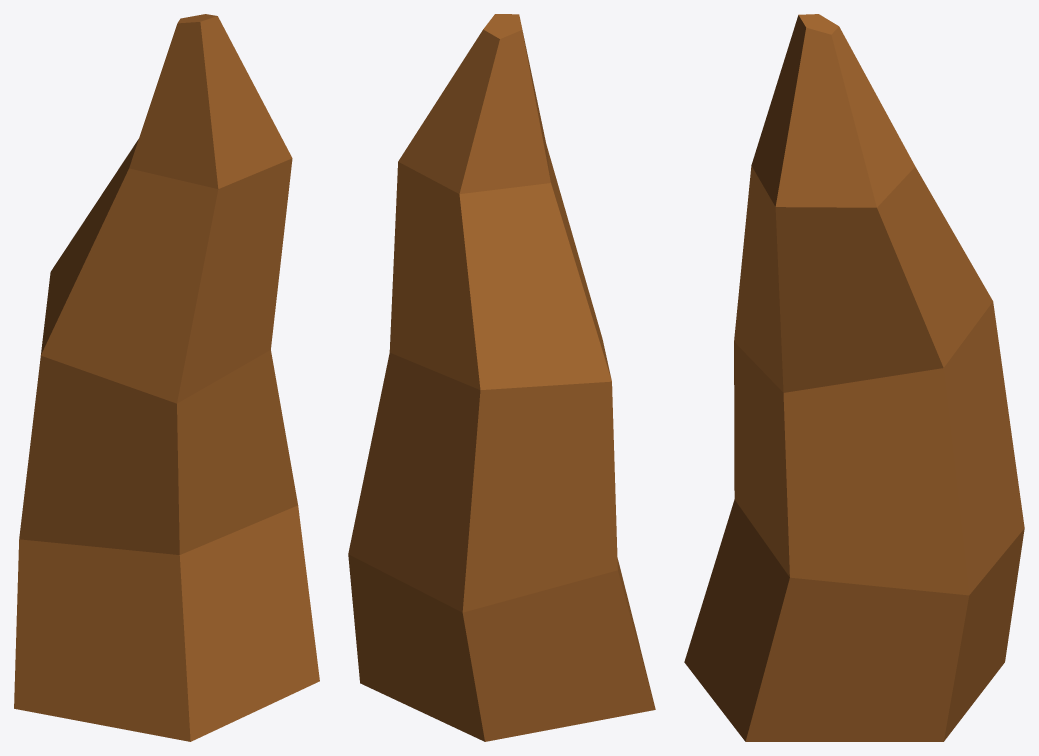
Rendered from TreeTrunk_44.fbx.
The picture shows the model from 3 angles, left to right: view 1: azimuth 30°, elevation 25°; view 2: azimuth 150°, elevation 25°; view 3: azimuth 270°, elevation 25°; orthographic projection. The views are drawn at different scales.
Parts seen in each view (by area): view 1: TreeTrunk_44; view 2: TreeTrunk_44; view 3: TreeTrunk_44.
Boxes of the visible parts, left/top/right/bottom form: TreeTrunk_44: left=14, top=14, right=319, bottom=741; TreeTrunk_44: left=348, top=14, right=655, bottom=741; TreeTrunk_44: left=684, top=14, right=1024, bottom=741.
Bounding box in the file's own units: 60.87 × 150 × 67.92.
